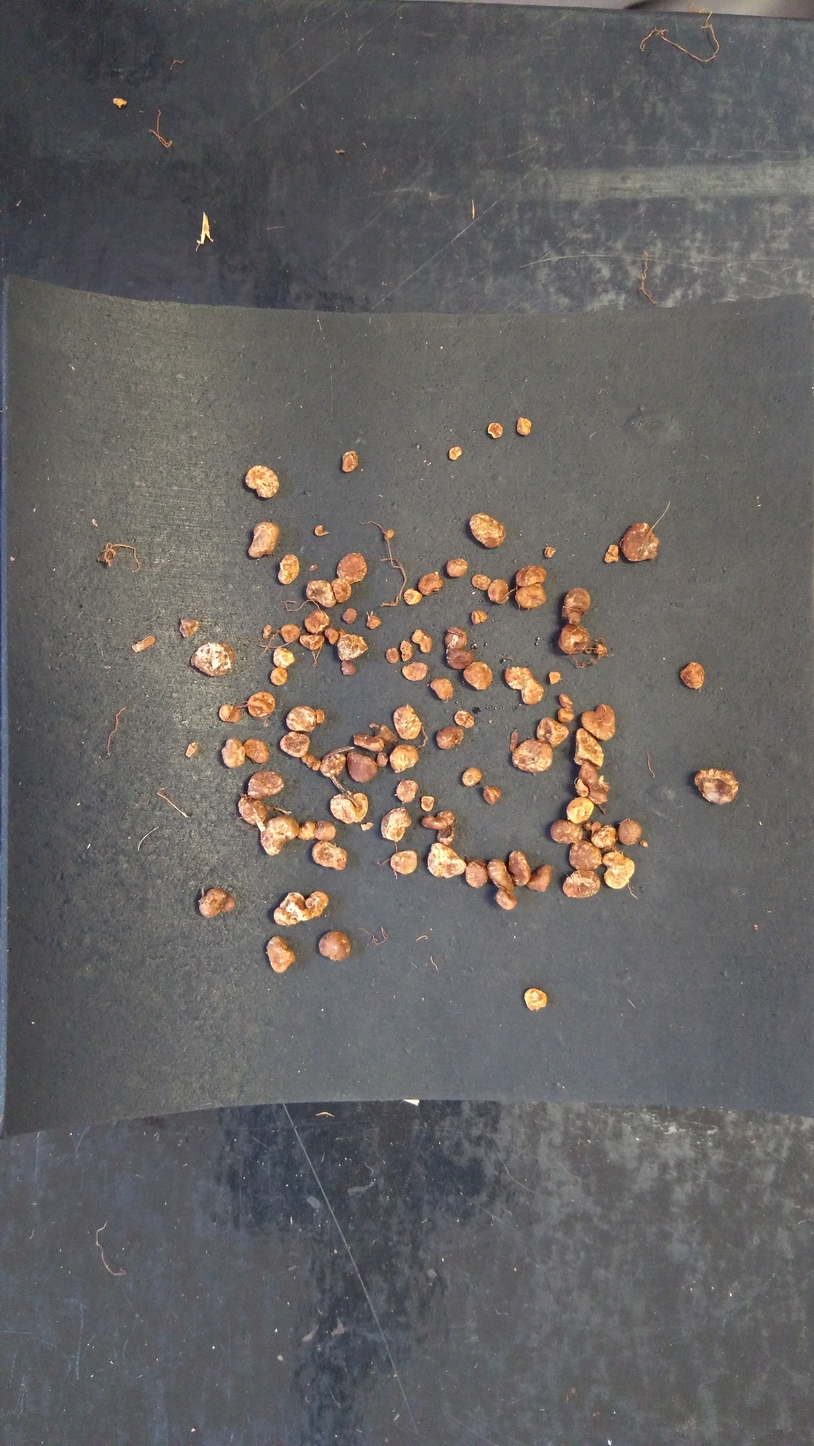nodule: (692, 766, 745, 811), (255, 811, 302, 858), (498, 662, 546, 706), (619, 518, 664, 564), (186, 642, 241, 679), (576, 702, 625, 742), (575, 758, 614, 807), (323, 789, 374, 826), (468, 509, 510, 553), (601, 846, 640, 893), (508, 737, 556, 775), (424, 840, 466, 882), (242, 461, 283, 503), (570, 726, 609, 770), (243, 517, 281, 561), (557, 581, 593, 625), (554, 622, 594, 661), (379, 804, 416, 845), (316, 927, 354, 966), (198, 884, 238, 921), (560, 866, 603, 900), (458, 656, 494, 696), (265, 933, 299, 975), (246, 767, 288, 800), (310, 839, 349, 873), (271, 891, 306, 928), (346, 747, 379, 786), (513, 584, 552, 617), (284, 703, 326, 733), (236, 794, 274, 827), (566, 838, 604, 871), (388, 742, 425, 775), (532, 715, 569, 748), (485, 856, 517, 894), (506, 848, 535, 889), (392, 704, 424, 741), (336, 551, 370, 585), (277, 729, 313, 761), (335, 631, 372, 662), (244, 687, 278, 720), (563, 794, 597, 826), (523, 861, 555, 895), (385, 847, 422, 876), (548, 817, 585, 846), (304, 577, 337, 609), (678, 660, 711, 692), (511, 564, 551, 590), (460, 856, 490, 890), (431, 724, 467, 752), (220, 732, 247, 769), (390, 776, 421, 806), (522, 986, 554, 1015), (616, 815, 644, 848), (174, 612, 204, 642), (242, 735, 271, 766), (426, 674, 455, 705), (490, 882, 518, 914), (349, 730, 386, 754), (318, 750, 347, 780), (416, 568, 445, 598), (588, 822, 619, 850), (276, 553, 301, 587), (420, 809, 459, 830), (337, 449, 365, 478), (483, 577, 510, 607), (409, 623, 434, 655), (302, 609, 330, 637), (401, 658, 429, 686), (304, 889, 331, 917), (450, 706, 479, 732), (330, 577, 355, 605), (444, 556, 472, 581), (445, 646, 474, 670), (311, 819, 337, 845), (594, 544, 622, 568), (460, 762, 483, 791), (270, 644, 296, 669), (217, 701, 243, 726), (294, 818, 319, 844), (479, 781, 504, 807), (298, 631, 328, 652), (432, 824, 459, 847), (514, 412, 536, 440), (399, 585, 425, 608), (467, 605, 491, 629), (280, 621, 305, 644), (443, 626, 468, 649), (266, 666, 292, 688), (484, 417, 505, 442), (298, 752, 323, 772), (469, 571, 491, 593), (399, 637, 417, 662), (338, 656, 358, 678), (555, 689, 574, 711), (546, 668, 565, 688), (338, 607, 359, 625), (386, 645, 402, 668), (419, 793, 437, 813), (364, 613, 383, 631), (374, 749, 390, 770), (323, 626, 341, 644), (557, 706, 575, 724), (444, 445, 463, 461), (312, 523, 331, 539), (184, 740, 199, 760), (541, 545, 559, 561), (313, 706, 326, 725), (260, 623, 274, 640), (589, 819, 603, 833), (382, 528, 395, 543), (583, 819, 592, 832)
